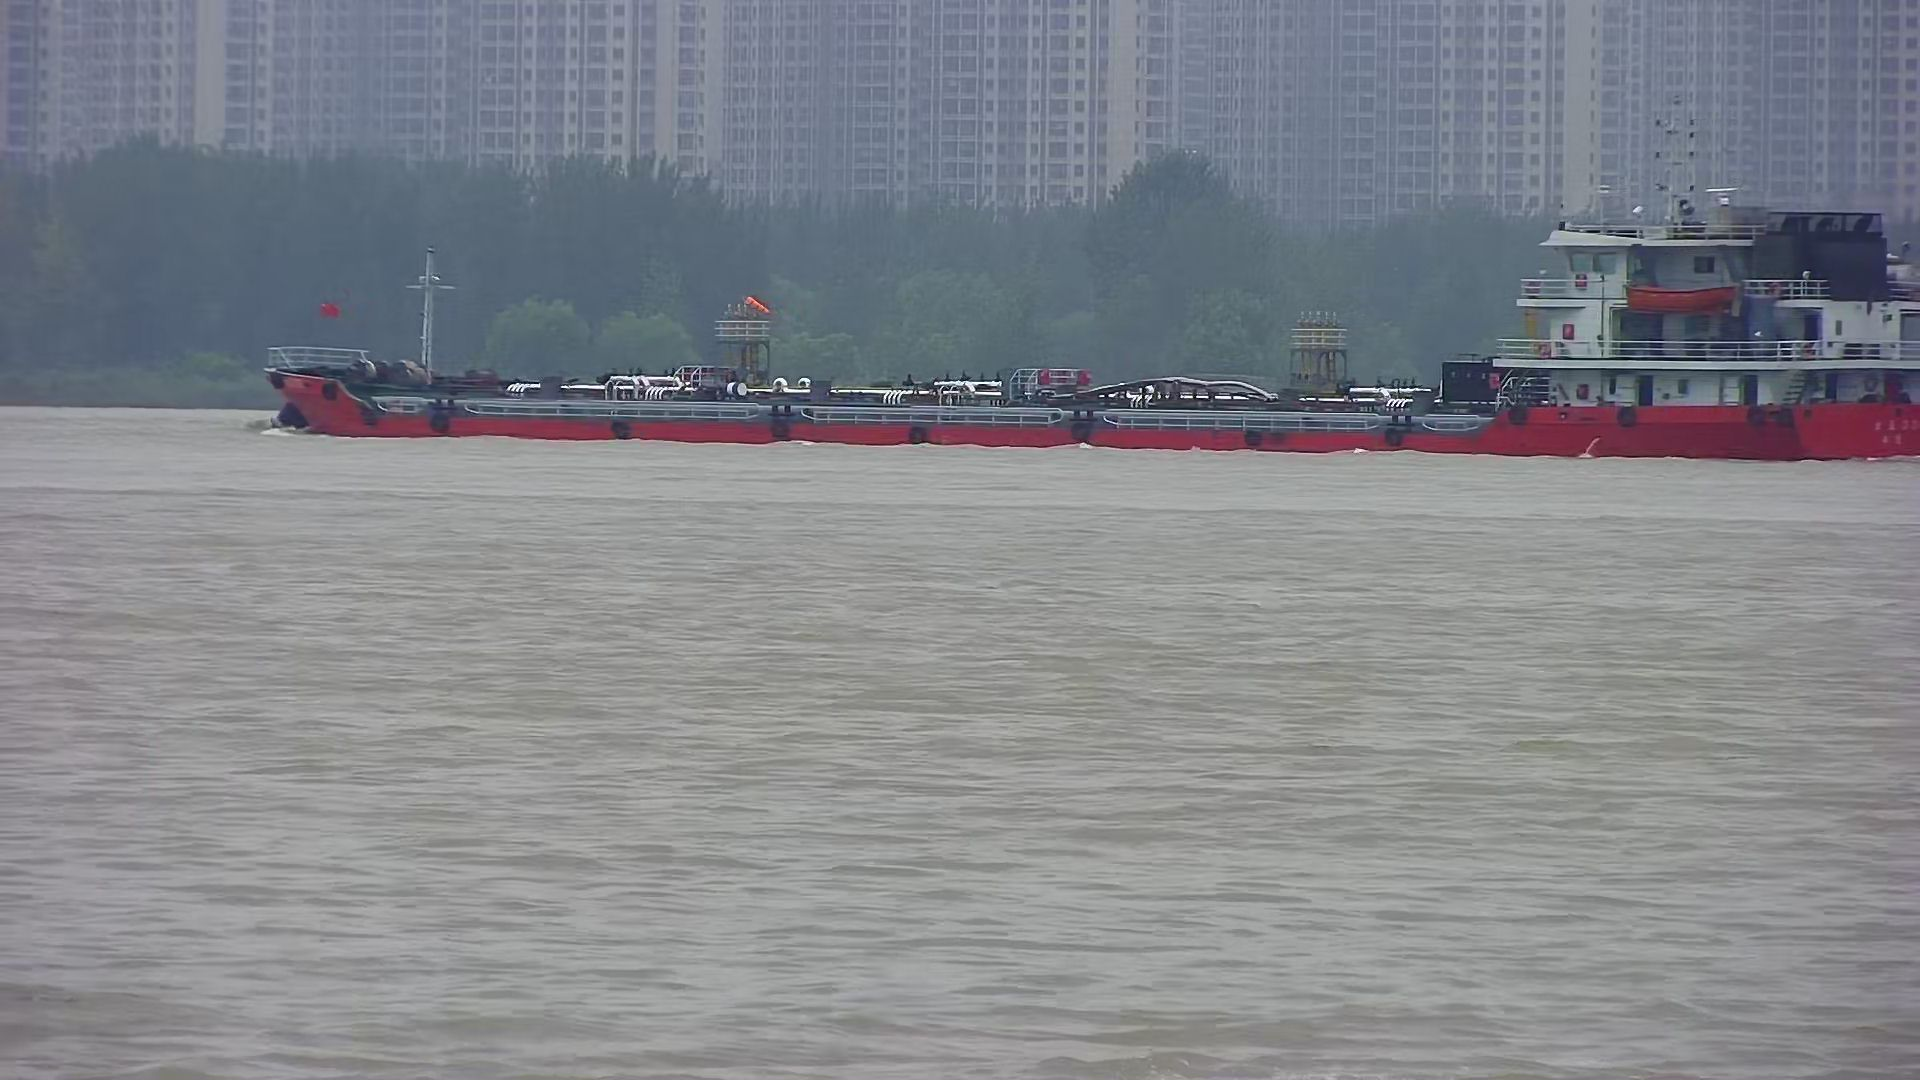ship: (248, 199, 1920, 468)
